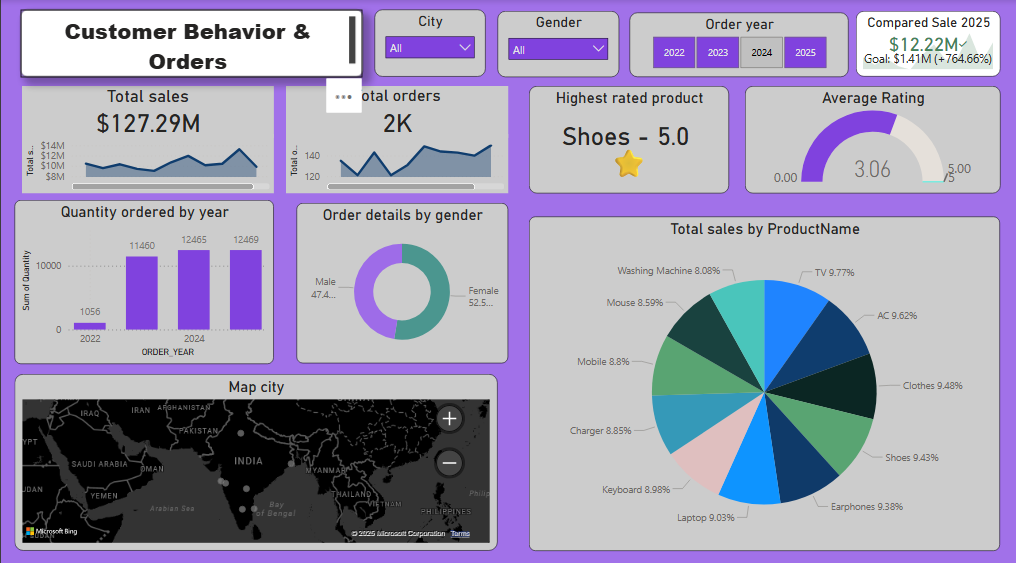

This screenshot's page, from the dashboard's own definition file:
{"tool":"powerbi","page":{"name":"Page 1","canvas":[1280,720],"ordinal":0},"visuals":[{"type":"card","title":"Total sales","fields":{"Values":["orderdetails.Total sales"]},"box":[24.6,141.7,317.5,64.3],"z":0},{"type":"card","title":"Total orders","fields":{"Values":["orderdetails.Total orders"]},"box":[360.9,141.7,279.7,64.3],"z":1000},{"type":"textbox","box":[24.6,0,430.9,109.6],"z":3000},{"type":"barChart","title":"Top 5 sales by ProductName","fields":{"Category":["orderdetails.ProductName"],"Y":["orderdetails.Total sales"]},"box":[963.8,319.4,294.8,381.7],"z":4000},{"type":"donutChart","fields":{"Y":["Sum(orders.OrderAmount)"],"Category":["customers.Gender"]},"box":[355.3,319.4,255.1,381.7],"z":5000},{"type":"slicer","title":"City","fields":{"Values":["customers.City"]},"box":[470.6,13.2,139.8,85],"z":6000},{"type":"slicer","title":"Order year","fields":{"Values":["orders.ORDER_YEAR"]},"box":[791.8,17,275.9,81.3],"z":7000},{"type":"kpi","title":"compared Sale 2025 ","fields":{"Indicator":["orders.sales_2024"],"Goal":["orders.sales_2025"],"TrendLine":["orders.order_month"]},"box":[1077.2,15.1,202.2,83.2],"z":9000},{"type":"areaChart","fields":{"Y":["orderdetails.Total sales"],"Category":["orders.OrderDate.Variation.Date Hierarchy.Month"]},"box":[24.6,206,317.5,98.3],"z":10000},{"type":"lineChart","fields":{"Category":["orders.OrderDate.Variation.Date Hierarchy.Month"],"Y":["orderdetails.Total orders"]},"box":[360.9,202.2,279.7,92.6],"z":11000},{"type":"gauge","title":"Average Rating","fields":{"Y":["rating.Average Rating"],"TargetValue":["rating.rating target"],"MaxValue":["rating.rating max"]},"box":[937.3,145.5,321.3,153.1],"z":12000},{"type":"card","title":"Highest rated product","fields":{"Values":["rating.Highest Rated Product Display"]},"box":[678.4,141.7,224.9,153.1],"z":13000},{"type":"pieChart","fields":{"Category":["orderdetails.ProductName"],"Y":["Sum(orderdetails.Total_sales)"]},"box":[625.5,321.3,332.6,379.8],"z":13001},{"type":"columnChart","fields":{"Category":["orders.ORDER_YEAR"],"Y":["Sum(orderdetails.Quantity)"]},"box":[11.4,322.1,326.9,379],"z":13002},{"type":"slicer","title":"Gender","fields":{"Values":["customers.Gender"]},"box":[625.5,15.1,153.1,83.2],"z":13003}]}

Visuals, with their boxes in screenshot pixels (x1, y1, x2, y2), scaled from the page's 1280x720 canvas onto the 1016x563 screenshot:
"Total sales" card: select_region(20, 111, 272, 161)
"Total orders" card: select_region(286, 111, 508, 161)
textbox: select_region(20, 0, 362, 86)
"Top 5 sales by ProductName" barChart: select_region(765, 250, 999, 548)
donutChart - Sum(orders.OrderAmount) x customers.Gender: select_region(282, 250, 485, 548)
"City" slicer: select_region(374, 10, 485, 77)
"Order year" slicer: select_region(628, 13, 847, 77)
"compared Sale 2025 " kpi: select_region(855, 12, 1015, 77)
areaChart - orderdetails.Total sales x orders.OrderDate.Variation.Date Hierarchy.Month: select_region(20, 161, 272, 238)
lineChart - orders.OrderDate.Variation.Date Hierarchy.Month x orderdetails.Total orders: select_region(286, 158, 508, 231)
"Average Rating" gauge: select_region(744, 114, 999, 233)
"Highest rated product" card: select_region(538, 111, 717, 231)
pieChart - orderdetails.ProductName x Sum(orderdetails.Total_sales): select_region(496, 251, 760, 548)
columnChart - orders.ORDER_YEAR x Sum(orderdetails.Quantity): select_region(9, 252, 269, 548)
"Gender" slicer: select_region(496, 12, 618, 77)
